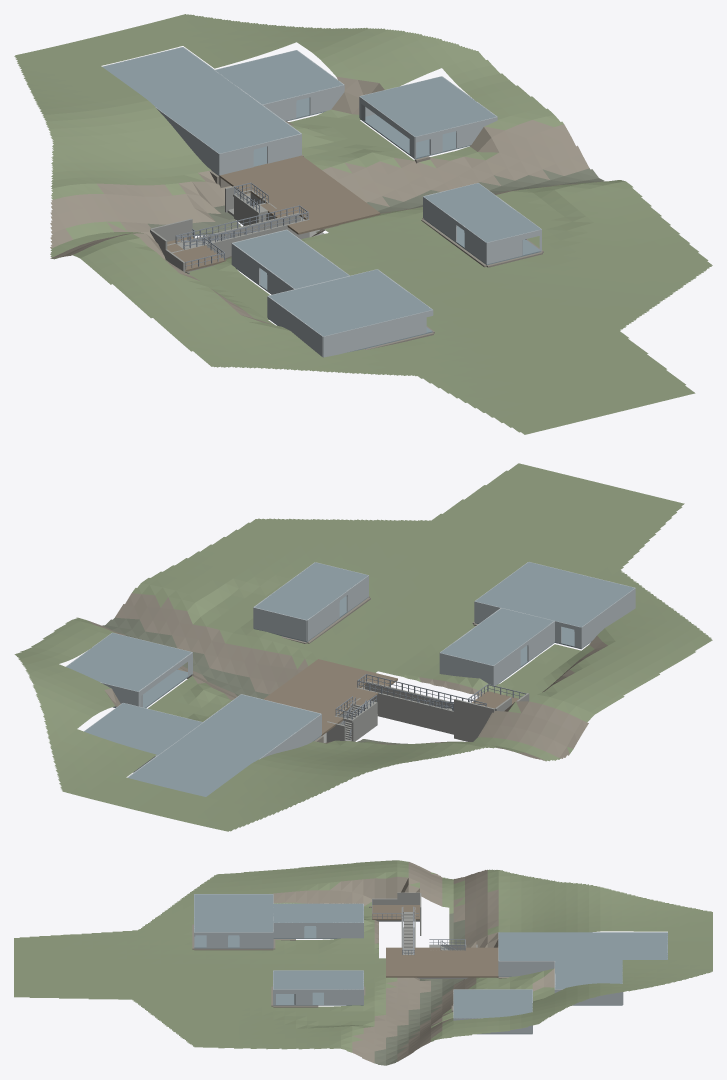
The model's file is constant-cells.glb.
The picture shows the model from 3 angles, top to bottom: view 1: azimuth 30°, elevation 25°; view 2: azimuth 150°, elevation 25°; view 3: azimuth 270°, elevation 25°; orthographic projection. The views are drawn at different scales.
Visible parts, largest first — view 1: Saved editor rectangular stair-cell terrain WLD-12, Ceiling cap tunnel, WLD-12 trestle deck with rectangular access region0, Ceiling cap signal, Ceiling cap store, Ceiling cap refuge, Ceiling cap coach-b, Ceiling cap coach-a, Flat route shell Wall signal S, Floor store, Wall signal W, Flat route shell Wall coach-b S (+9 smaller); view 2: Saved editor rectangular stair-cell terrain WLD-12, Ceiling cap tunnel, Ceiling cap signal, WLD-12 trestle deck with rectangular access region0, Ceiling cap store, Ceiling cap refuge, Ceiling cap coach-b, Ceiling cap coach-a, WLD-12 west stair retaining wall 36.75 region0, WLD-12 platform north retaining parapet region0, Wall coach-b N, Wall signal W (+8 smaller); view 3: Saved editor rectangular stair-cell terrain WLD-12, Ceiling cap tunnel, WLD-12 trestle deck with rectangular access region0, Ceiling cap signal, Ceiling cap store, Ceiling cap coach-b, Ceiling cap coach-a, Ceiling cap refuge, Flat route shell Wall coach-a E, Flat route shell Wall tunnel E.001, WLD-12 west maintenance access platform region0, Flat route shell Wall coach-b E (+7 smaller).
Boxes of the visible parts, x1,y1,x2,y2 form: Saved editor rectangular stair-cell terrain WLD-12: (14, 14, 712, 434); Ceiling cap tunnel: (102, 47, 299, 153); WLD-12 trestle deck with rectangular access region0: (219, 155, 380, 234); Ceiling cap signal: (269, 269, 432, 336); Ceiling cap store: (360, 76, 496, 136); Ceiling cap refuge: (215, 50, 342, 104); Ceiling cap coach-b: (424, 183, 540, 242); Ceiling cap coach-a: (233, 230, 349, 288); Flat route shell Wall signal S: (323, 310, 432, 357); Floor store: (360, 114, 470, 159); Wall signal W: (267, 296, 323, 357); Flat route shell Wall coach-b S: (486, 229, 541, 264); Saved editor rectangular stair-cell terrain WLD-12: (14, 463, 712, 831); Ceiling cap tunnel: (128, 694, 320, 796); Ceiling cap signal: (475, 562, 634, 627); WLD-12 trestle deck with rectangular access region0: (263, 659, 397, 735); Ceiling cap store: (66, 633, 191, 691); Ceiling cap refuge: (84, 703, 202, 755); Ceiling cap coach-b: (255, 562, 367, 619); Ceiling cap coach-a: (440, 608, 553, 665); WLD-12 west stair retaining wall 36.75 region0: (357, 687, 453, 734); WLD-12 platform north retaining parapet region0: (454, 699, 494, 741); Wall coach-b N: (253, 607, 306, 641); Wall signal W: (581, 588, 635, 648); Saved editor rectangular stair-cell terrain WLD-12: (14, 860, 712, 1065); Ceiling cap tunnel: (498, 932, 667, 960); WLD-12 trestle deck with rectangular access region0: (386, 947, 498, 977); Ceiling cap signal: (194, 894, 273, 932); Ceiling cap store: (453, 989, 532, 1018); Ceiling cap coach-b: (273, 970, 363, 989); Ceiling cap coach-a: (273, 903, 363, 922); Ceiling cap refuge: (555, 961, 622, 989); Flat route shell Wall coach-a E: (316, 922, 363, 938); Flat route shell Wall tunnel E.001: (498, 961, 554, 976); WLD-12 west maintenance access platform region0: (372, 905, 419, 920); Flat route shell Wall coach-b E: (324, 989, 363, 1004).
Bounding box in the file's own units: 75 × 10.11 × 124.
Materials: 25 (14 with a texture image).
